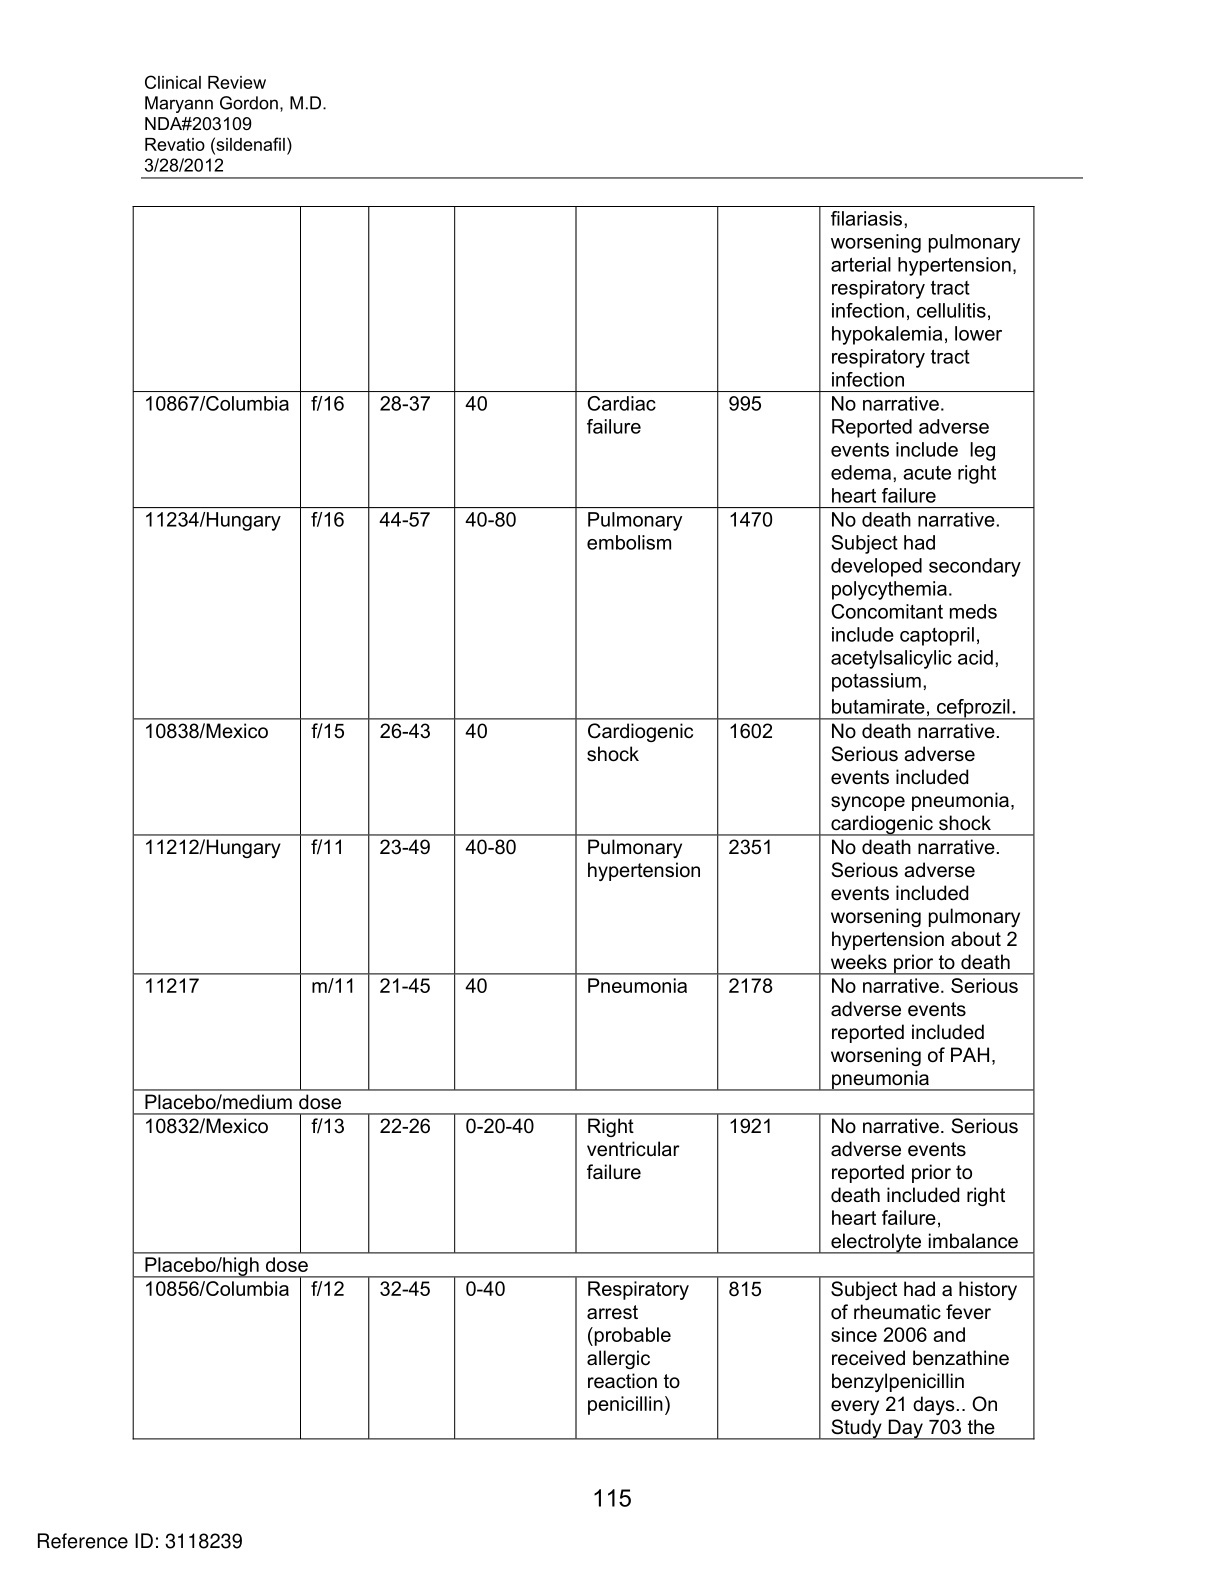merged_cells: (130, 204, 1036, 1441)
